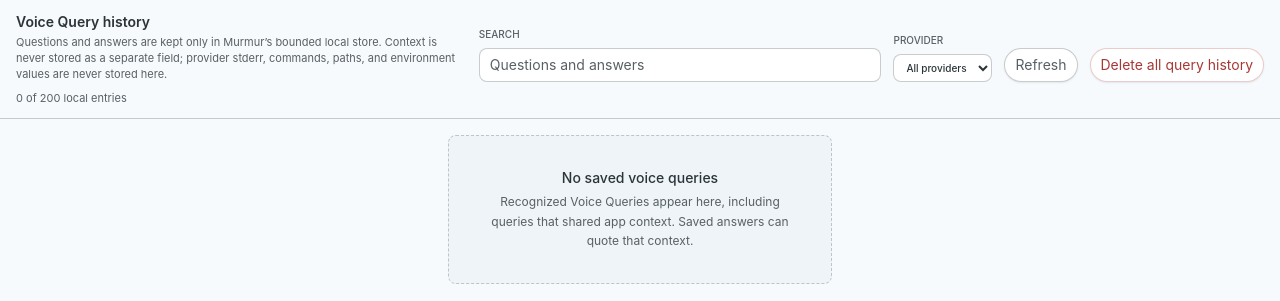
Test: QueryHistoryPanel › keeps purge available when the visible total is zero
What coordinates should you click on to do the following:
click the button "Delete all query history"
I would click on:
 (1177, 65)
Its box is [1090,48,1264,82].
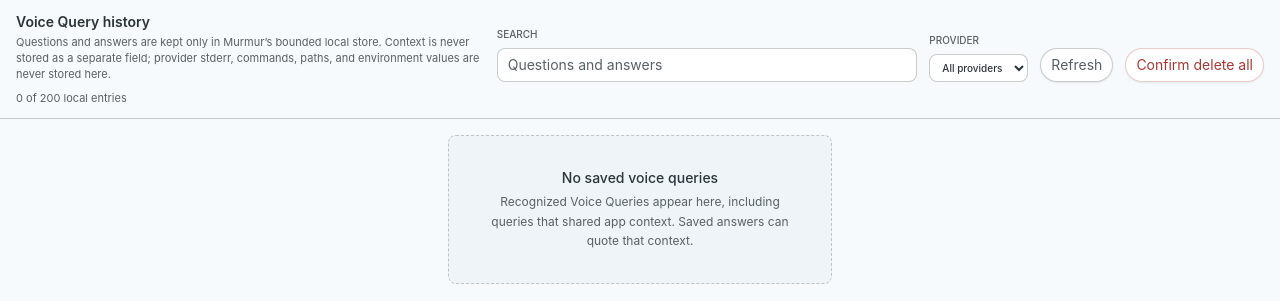
What coordinates should you click on to do the following:
click the button "Confirm delete all"
I would click on:
 (1195, 65)
Its box is [1125,48,1264,82].
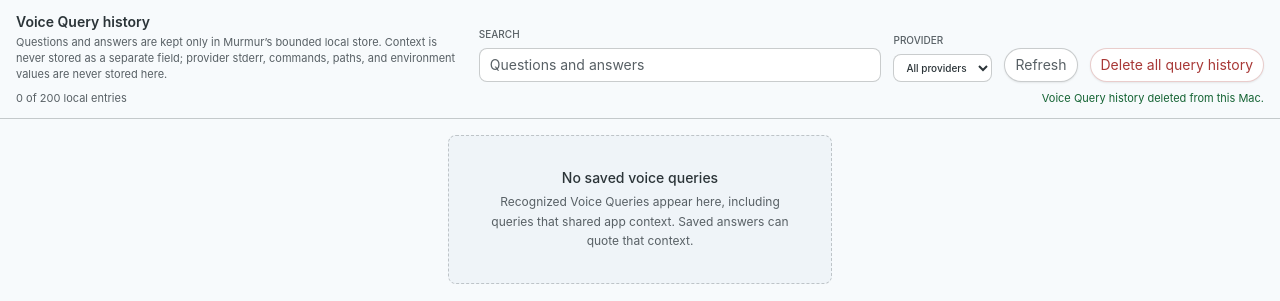
Result: the text "Voice Query history deleted from this Mac." is shown at [1042,90,1264,106]
